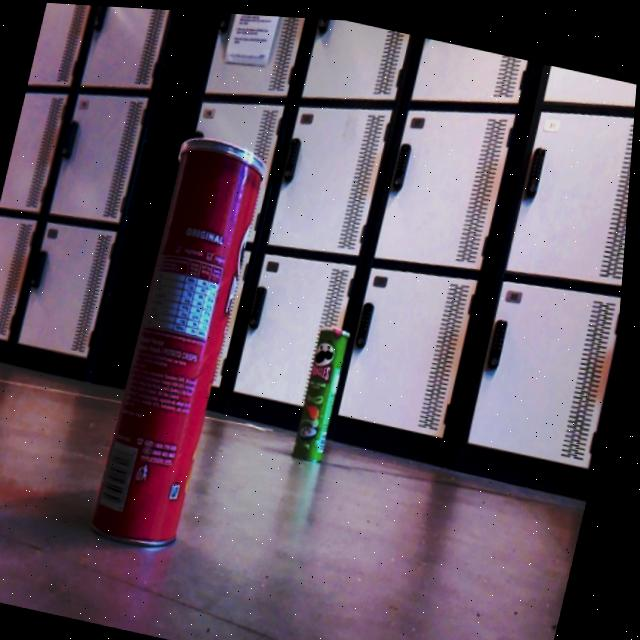greenpringles: (292, 316, 365, 462)
redpringles: (83, 101, 286, 583)
